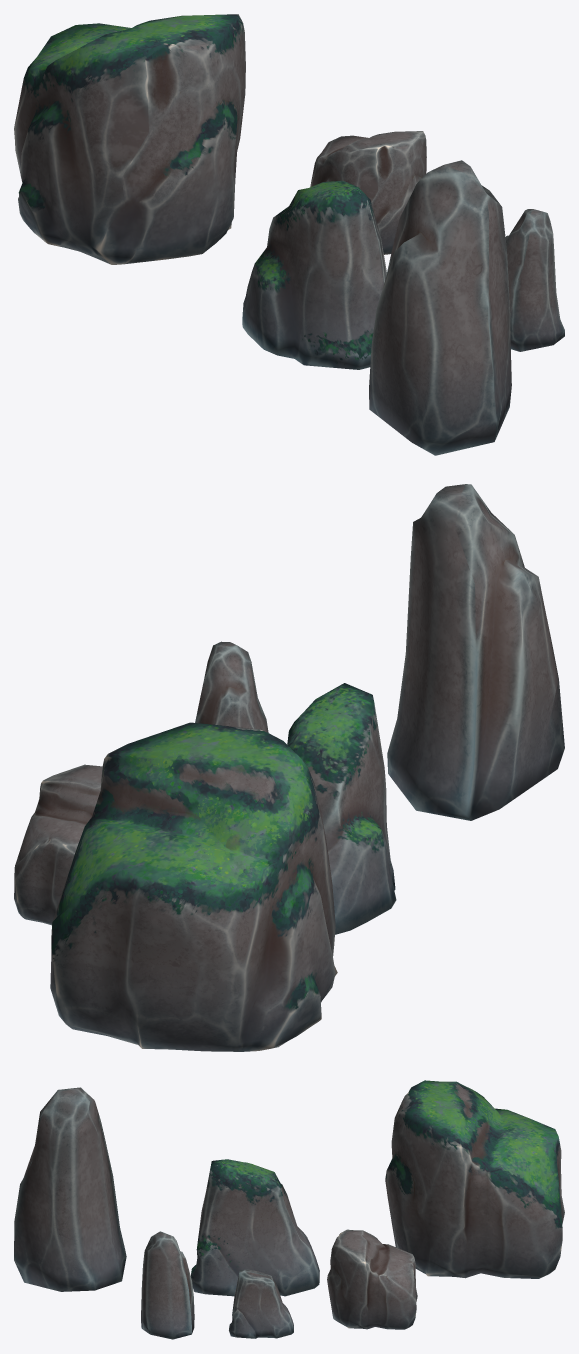
File: Rocks.fbx
3 renders of one model, top to bottom at view 1: azimuth 30°, elevation 25°; view 2: azimuth 150°, elevation 25°; view 3: azimuth 270°, elevation 25°, orthographic. The views are drawn at different scales.
Parts seen in each view (by area): view 1: BigRock, TallRock, SmallRock, BigRock.001, TallRock.001; view 2: BigRock, TallRock, SmallRock, BigRock.001, TallRock.001; view 3: BigRock, TallRock, SmallRock, BigRock.001, TallRock.001, SmallRock.001.
Boxes of the visible parts, x1,y1,x2,y2 form: BigRock: [14, 14, 245, 264]; TallRock: [369, 160, 511, 455]; SmallRock: [242, 180, 386, 369]; BigRock.001: [310, 131, 426, 254]; TallRock.001: [505, 209, 564, 351]; BigRock: [50, 722, 337, 1051]; TallRock: [387, 484, 564, 820]; SmallRock: [287, 683, 396, 934]; BigRock.001: [14, 764, 102, 925]; TallRock.001: [195, 641, 268, 732]; BigRock: [385, 1080, 564, 1278]; TallRock: [14, 1087, 126, 1291]; SmallRock: [191, 1159, 319, 1296]; BigRock.001: [327, 1229, 417, 1329]; TallRock.001: [141, 1231, 194, 1339]; SmallRock.001: [229, 1269, 293, 1338].
Size of the model in its own units: 2321 by 1820 by 4670.
